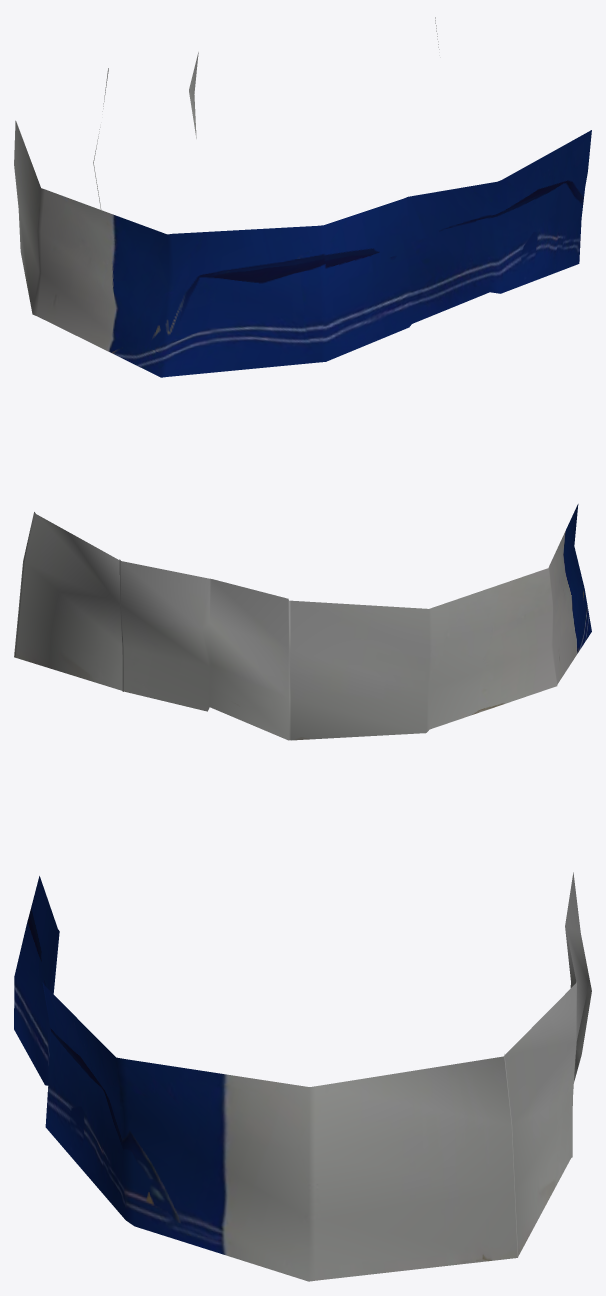
3 renders of one model, top to bottom at view 1: azimuth 30°, elevation 25°; view 2: azimuth 150°, elevation 25°; view 3: azimuth 270°, elevation 25°, orthographic. The views are drawn at different scales.
Visible parts, largest first — view 1: geometry_0; view 2: geometry_0; view 3: geometry_0.
Part boxes in pixels (box(x1,y1,x2,y2)): geometry_0: box(14, 17, 591, 377); geometry_0: box(14, 504, 591, 740); geometry_0: box(14, 872, 591, 1281).
Size of the model in its own units: 0.4058 by 0.112 by 0.3017.
1 material, 1 textured.
